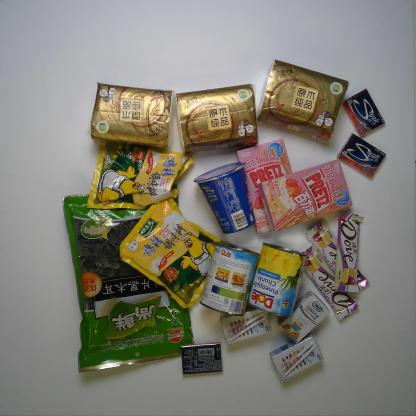Canned Food: (197, 241, 261, 317), (247, 242, 308, 318)
Chocolate: (304, 219, 369, 294), (300, 244, 360, 321), (334, 213, 364, 293)
Dessert: (257, 159, 353, 231), (236, 138, 294, 234), (193, 161, 256, 235)
Dried Food: (61, 183, 195, 373)
Gum: (336, 132, 386, 178), (342, 88, 385, 137), (180, 342, 224, 375)
Milk: (276, 289, 331, 344), (270, 333, 324, 381), (219, 308, 272, 344)
Seasoner: (118, 195, 225, 309), (86, 139, 195, 210)
Tissue: (256, 58, 350, 141), (88, 81, 176, 150), (174, 83, 259, 154)
